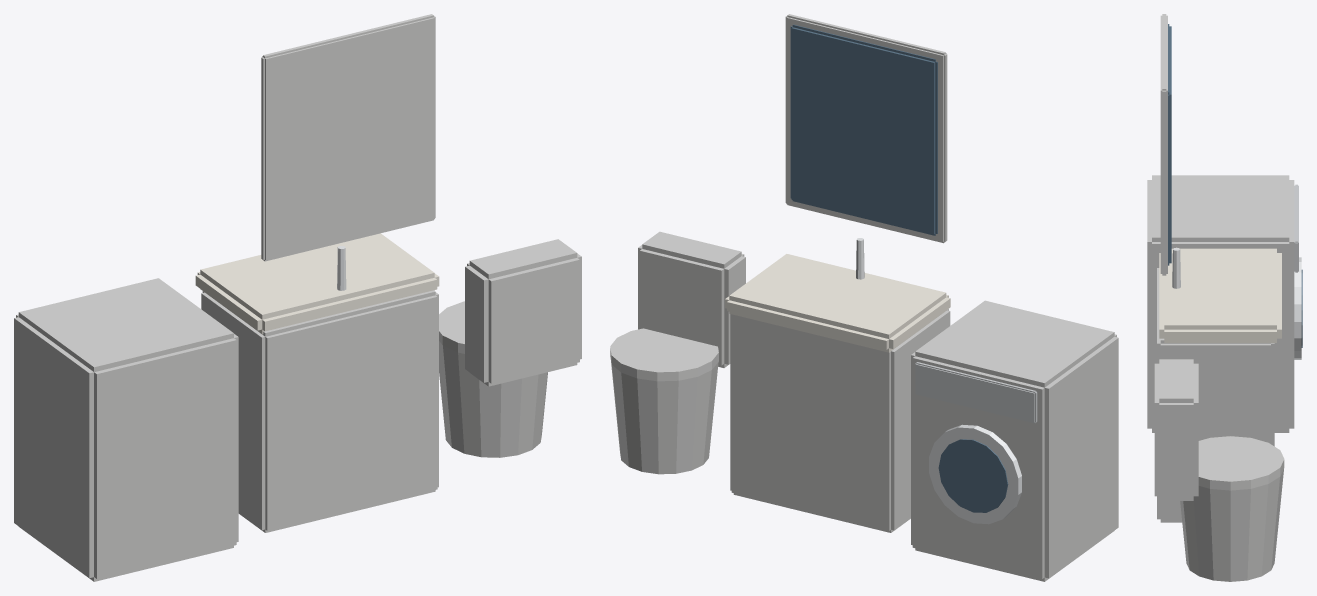
The model's file is Interior_BathroomSet.fbx.
3 views of the same model, side by side, from view 1: azimuth 30°, elevation 25°; view 2: azimuth 150°, elevation 25°; view 3: azimuth 270°, elevation 25° (orthographic). The views are drawn at different scales.
Visible parts, largest first — view 1: Interior_BathroomSet; view 2: Interior_BathroomSet; view 3: Interior_BathroomSet.
Part boxes in pixels (box(x1,y1,x2,y2)): Interior_BathroomSet: box(14, 14, 581, 581); Interior_BathroomSet: box(610, 14, 1118, 581); Interior_BathroomSet: box(1147, 14, 1302, 581).
Bounding box in the file's own units: 2.14 × 1.96 × 0.635.
